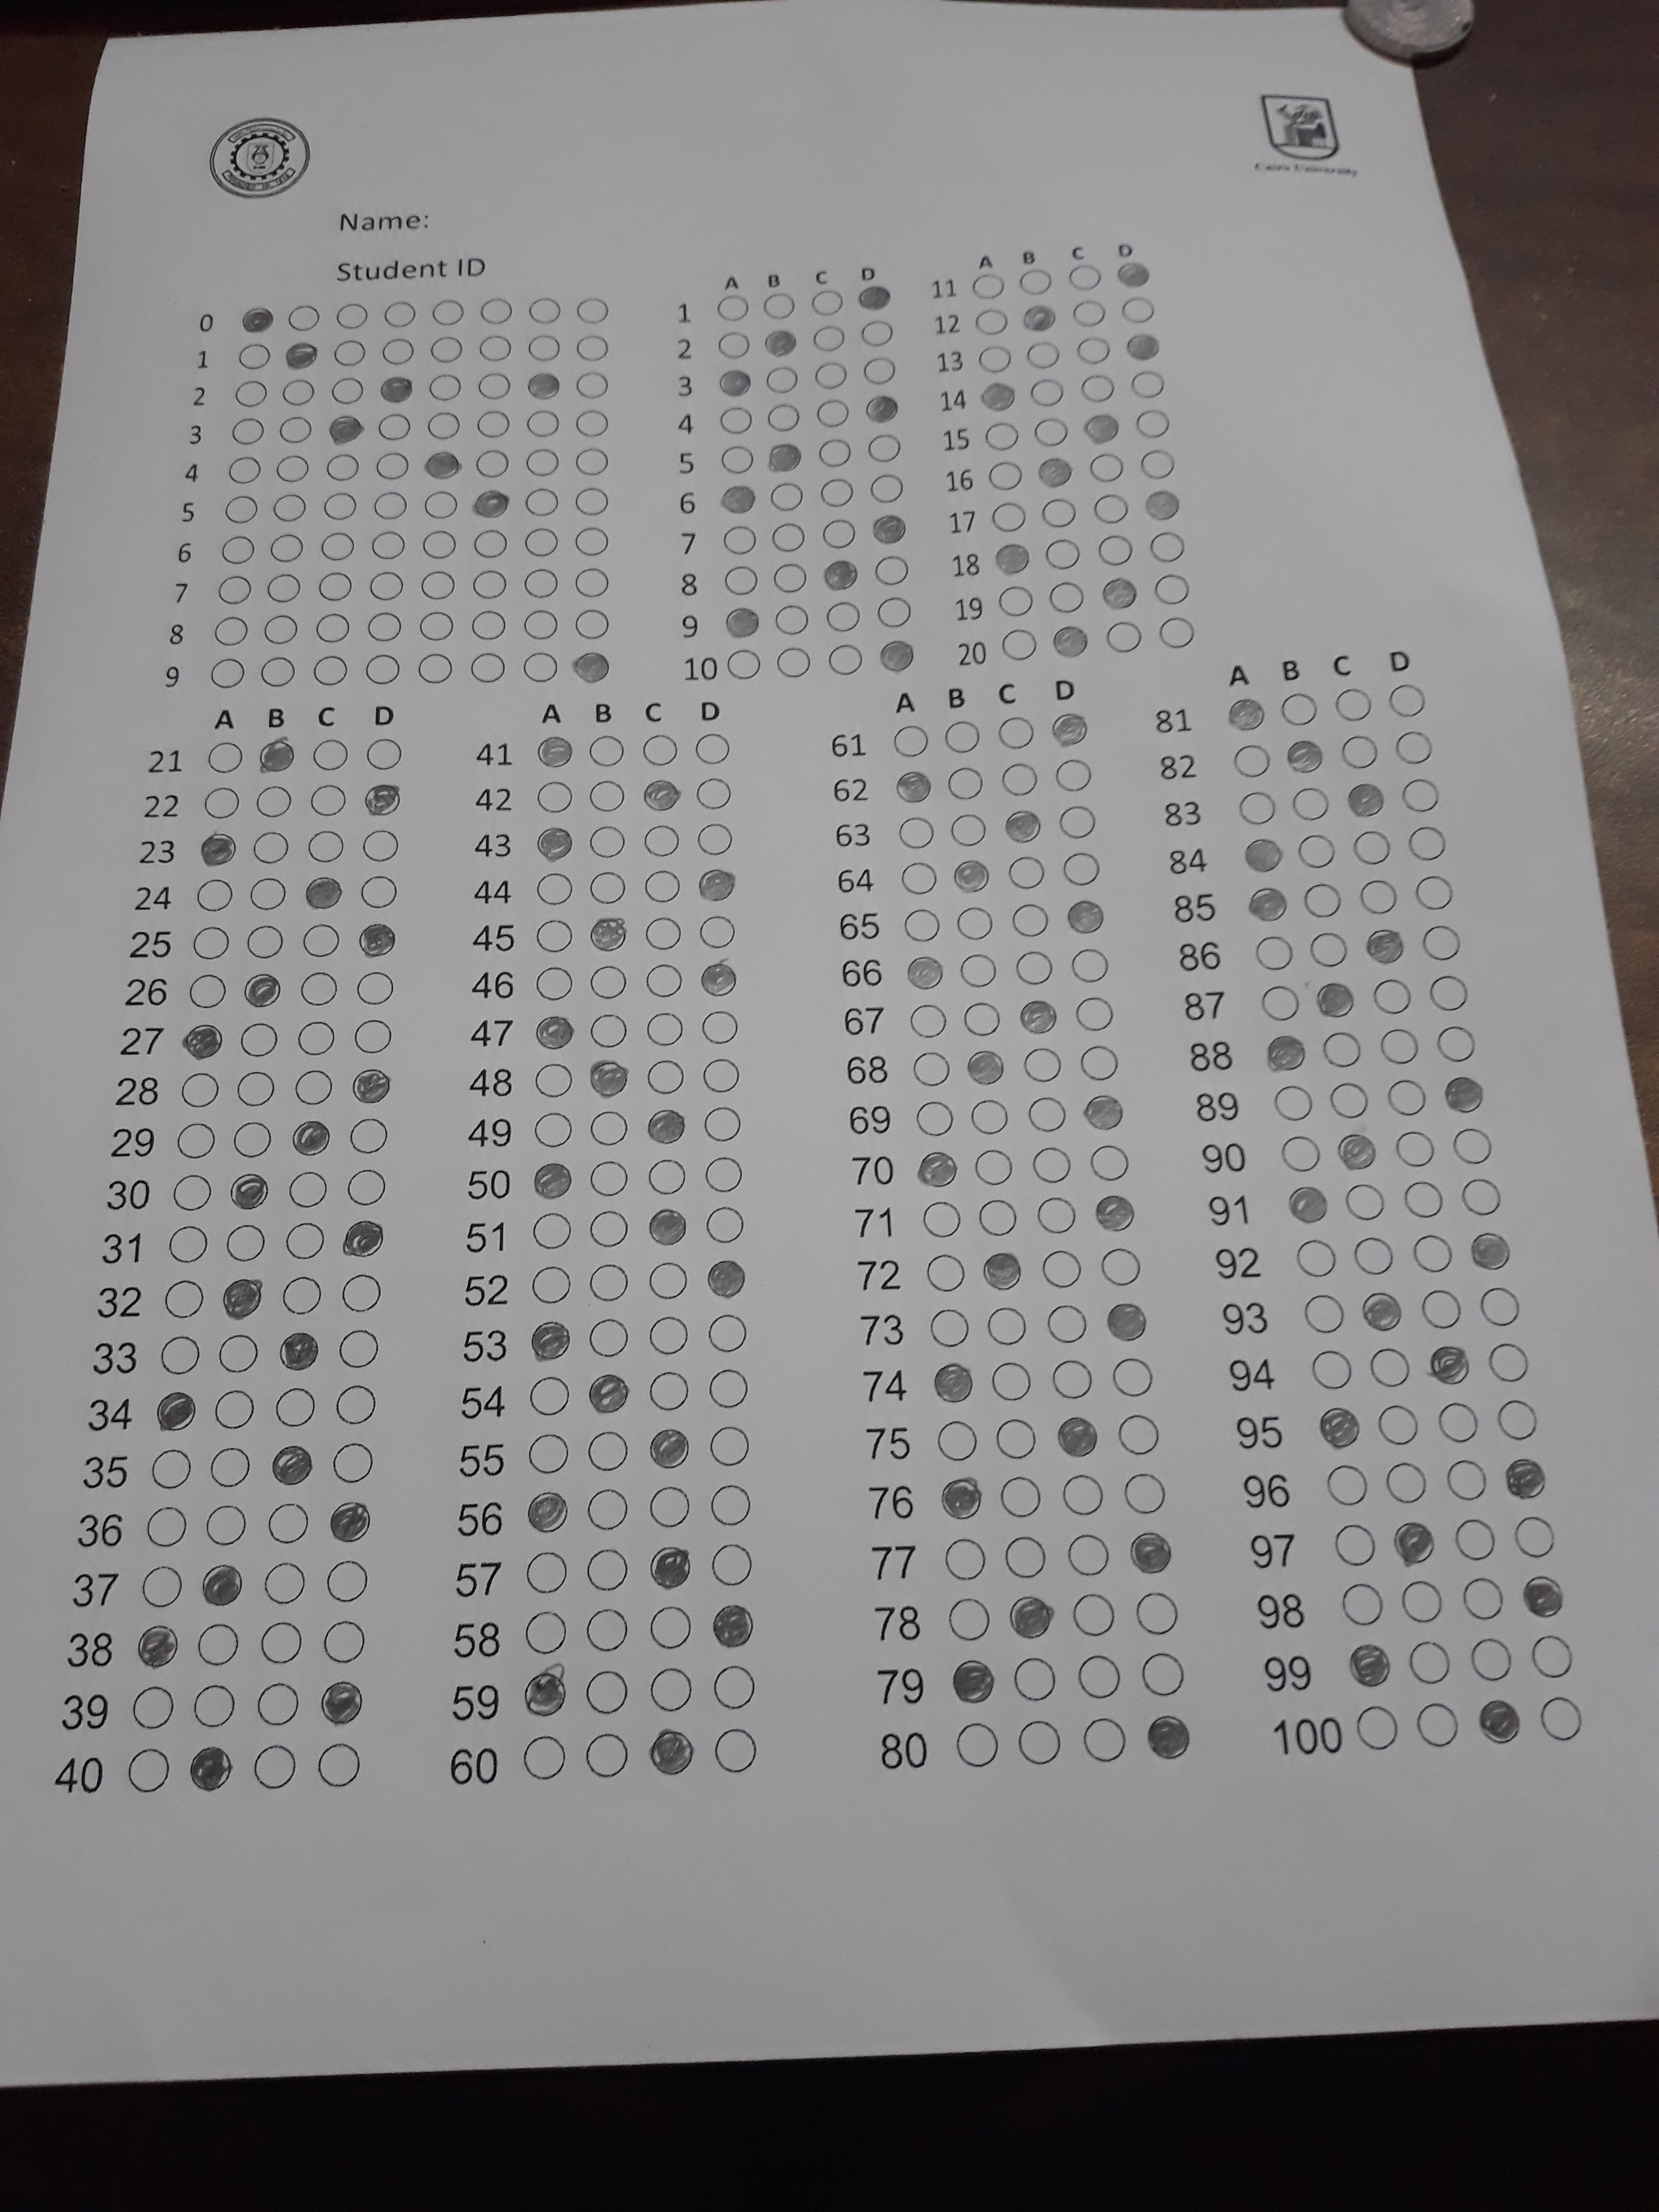not-c: (1413, 1702, 1460, 1749), (1405, 1639, 1450, 1686), (1375, 1402, 1420, 1449), (1309, 1346, 1354, 1393), (1493, 1397, 1539, 1444), (1408, 1230, 1453, 1277), (1351, 1231, 1398, 1277), (1448, 1120, 1495, 1165), (1338, 1583, 1385, 1629), (1331, 1521, 1377, 1568), (702, 1312, 749, 1357), (708, 1423, 753, 1470), (1002, 1534, 1047, 1581), (1070, 1592, 1117, 1637), (1075, 1653, 1121, 1700), (951, 1721, 999, 1766), (647, 1606, 694, 1651), (525, 1548, 570, 1595), (584, 1670, 631, 1716), (648, 1667, 695, 1712), (322, 1557, 368, 1604), (148, 1447, 195, 1493), (321, 1620, 368, 1665), (139, 1564, 185, 1611), (253, 1683, 300, 1728), (190, 1684, 237, 1730), (253, 1743, 298, 1791), (317, 1742, 362, 1789), (647, 1312, 692, 1359), (647, 1367, 692, 1414), (584, 1608, 631, 1653), (1324, 1463, 1370, 1508), (1401, 1578, 1446, 1623), (1354, 1705, 1399, 1750), (1453, 1517, 1499, 1562), (1443, 1456, 1488, 1501), (1459, 1576, 1504, 1622), (1469, 1637, 1514, 1683), (1539, 1696, 1584, 1742), (1530, 1634, 1575, 1679), (1511, 1514, 1556, 1559), (1434, 1399, 1480, 1444), (1368, 1345, 1413, 1390), (1486, 1341, 1532, 1386), (1476, 1284, 1521, 1329), (1419, 1287, 1464, 1332), (1300, 1291, 1345, 1336), (1293, 1237, 1338, 1282), (1340, 1179, 1385, 1224), (1401, 1176, 1446, 1221), (1459, 1174, 1504, 1219), (943, 1538, 988, 1583), (706, 1366, 751, 1411), (709, 1482, 755, 1527), (709, 1541, 755, 1587), (711, 1663, 756, 1709), (521, 1735, 566, 1780), (584, 1733, 629, 1778), (714, 1728, 760, 1773), (946, 1597, 992, 1642), (999, 1474, 1044, 1519), (992, 1416, 1037, 1461), (934, 1420, 979, 1465), (1061, 1472, 1107, 1517), (1065, 1531, 1110, 1576), (990, 1357, 1035, 1402), (1049, 1357, 1094, 1402), (1108, 1355, 1154, 1400), (1115, 1413, 1161, 1458), (1121, 1470, 1166, 1515), (1134, 1590, 1180, 1635), (1012, 1656, 1058, 1702), (1014, 1721, 1060, 1766), (1080, 1717, 1126, 1763), (1140, 1651, 1185, 1696), (265, 1500, 310, 1545), (261, 1559, 307, 1604), (202, 1503, 247, 1548), (206, 1444, 251, 1489), (145, 1505, 190, 1550), (256, 1622, 301, 1667), (195, 1622, 240, 1667), (131, 1686, 176, 1731), (125, 1749, 171, 1794), (272, 1386, 317, 1432), (333, 1381, 378, 1426), (331, 1439, 376, 1484), (528, 1372, 573, 1418), (526, 1430, 572, 1475), (586, 1428, 631, 1474), (586, 1487, 631, 1533), (586, 1315, 631, 1360), (647, 1484, 692, 1529), (584, 1547, 629, 1592), (521, 1611, 566, 1656), (1279, 1130, 1324, 1174), (1098, 1245, 1143, 1289), (918, 1198, 964, 1242), (904, 998, 950, 1042), (1086, 1139, 1131, 1183), (1392, 1127, 1436, 1170), (1377, 1024, 1420, 1068), (1321, 1028, 1364, 1071), (1046, 1303, 1089, 1346), (1040, 1247, 1084, 1291), (985, 1305, 1028, 1348), (971, 1146, 1014, 1190), (967, 1096, 1011, 1139), (1025, 1092, 1068, 1136), (1324, 1080, 1370, 1122), (974, 1197, 1019, 1238), (958, 996, 1004, 1038), (1384, 1076, 1427, 1118), (1270, 1082, 1314, 1123), (1434, 1022, 1478, 1064), (929, 1306, 972, 1348), (924, 1252, 967, 1294), (1033, 1195, 1077, 1237), (1030, 1144, 1073, 1186), (1021, 1043, 1065, 1085), (913, 1097, 957, 1139), (910, 1047, 953, 1089), (1077, 1042, 1121, 1083), (1072, 991, 1115, 1033), (336, 1327, 380, 1369), (340, 1271, 383, 1313), (279, 1277, 322, 1318), (216, 1332, 260, 1374), (282, 1219, 326, 1261), (223, 1221, 267, 1263), (532, 1109, 575, 1151), (587, 1108, 631, 1150), (586, 1158, 629, 1200), (587, 1209, 631, 1251), (530, 1211, 573, 1252), (530, 1264, 573, 1306), (587, 1263, 631, 1305), (702, 1151, 746, 1193), (704, 1205, 748, 1247), (647, 1259, 690, 1301), (171, 1172, 214, 1214), (166, 1224, 209, 1266), (160, 1278, 204, 1320), (159, 1334, 202, 1376), (213, 1390, 256, 1432), (647, 1157, 688, 1198), (702, 1104, 744, 1146), (295, 1019, 338, 1057), (692, 820, 735, 859), (235, 1021, 279, 1059), (296, 968, 340, 1007), (298, 921, 342, 960), (246, 876, 289, 914), (192, 876, 235, 914), (645, 961, 688, 1000), (533, 869, 577, 907), (640, 867, 683, 906), (349, 1017, 392, 1055), (350, 970, 394, 1008), (291, 1069, 335, 1108), (188, 972, 232, 1010), (530, 1061, 573, 1099), (586, 1012, 629, 1050), (643, 1057, 687, 1096), (695, 914, 739, 953), (699, 1008, 742, 1047), (347, 1116, 390, 1155), (343, 1169, 387, 1207), (174, 1120, 218, 1158), (303, 827, 345, 866), (355, 873, 397, 911), (242, 923, 284, 961), (190, 925, 232, 963), (533, 965, 575, 1003), (587, 963, 629, 1001), (643, 914, 685, 953), (533, 916, 575, 954), (587, 867, 629, 906), (701, 1057, 742, 1096), (286, 1170, 328, 1209), (234, 1069, 275, 1108), (232, 1120, 274, 1158), (179, 1071, 221, 1109), (1427, 975, 1471, 1012), (247, 829, 291, 866), (997, 716, 1037, 754), (641, 820, 681, 859), (202, 784, 242, 822), (535, 779, 575, 817), (957, 953, 999, 989), (1007, 902, 1049, 939), (901, 907, 943, 944), (1303, 881, 1345, 918), (1358, 878, 1399, 914), (1420, 923, 1462, 960), (1297, 833, 1338, 869), (1051, 758, 1093, 794), (1352, 829, 1394, 866), (1279, 691, 1321, 728), (643, 1012, 685, 1049), (694, 775, 732, 813), (364, 735, 403, 773), (587, 777, 626, 815), (589, 822, 627, 860), (1340, 733, 1380, 770), (1232, 744, 1272, 780), (359, 826, 399, 862), (692, 732, 732, 768), (640, 733, 680, 770), (587, 733, 627, 770), (206, 738, 246, 775), (1371, 979, 1413, 1014), (1260, 986, 1302, 1021), (1309, 932, 1351, 967), (1066, 949, 1108, 984), (1012, 951, 1054, 986), (955, 906, 997, 941), (894, 815, 936, 850), (946, 812, 988, 846), (1006, 855, 1047, 890), (1061, 852, 1103, 887), (1056, 805, 1098, 840), (945, 766, 986, 801), (999, 763, 1040, 798), (941, 719, 983, 754), (1399, 779, 1441, 813), (1394, 730, 1436, 765), (1236, 789, 1277, 824), (1333, 688, 1375, 723), (899, 859, 936, 897), (310, 782, 349, 819), (312, 737, 350, 773), (254, 784, 293, 820), (1047, 580, 1087, 615), (999, 627, 1039, 662), (469, 651, 509, 686), (418, 568, 458, 603), (418, 526, 458, 561), (1255, 935, 1295, 970), (1415, 874, 1455, 909), (1291, 787, 1331, 822), (1406, 826, 1446, 860), (1387, 683, 1427, 718), (573, 608, 612, 643), (873, 554, 911, 589), (521, 650, 559, 685), (521, 606, 559, 641), (572, 566, 610, 601), (523, 564, 561, 599), (1147, 529, 1185, 564), (1154, 573, 1192, 608), (995, 585, 1033, 620), (772, 603, 810, 637), (823, 599, 861, 634), (873, 597, 911, 632), (723, 648, 762, 683), (774, 644, 812, 679), (1105, 620, 1143, 655), (1157, 615, 1195, 650), (824, 639, 863, 674), (471, 608, 509, 643), (472, 566, 511, 601), (573, 524, 612, 559), (523, 486, 561, 521), (472, 526, 511, 561), (415, 651, 453, 686), (416, 610, 455, 644), (364, 651, 403, 686), (366, 610, 404, 644), (368, 568, 406, 603), (369, 528, 408, 563), (422, 488, 460, 523), (371, 489, 410, 524), (373, 449, 411, 484), (890, 723, 929, 758), (521, 526, 561, 559), (474, 408, 512, 441), (573, 484, 612, 517), (474, 448, 512, 481), (476, 331, 514, 364), (525, 331, 563, 364), (310, 655, 349, 688), (314, 611, 352, 644), (324, 451, 362, 484), (267, 531, 305, 564), (207, 657, 246, 690), (213, 615, 251, 648), (228, 415, 267, 448), (425, 409, 462, 442), (575, 333, 612, 366), (575, 294, 612, 327), (382, 300, 418, 333), (317, 570, 354, 603), (321, 491, 357, 524), (216, 573, 253, 606), (223, 493, 260, 526), (329, 374, 366, 408), (237, 340, 274, 373), (1070, 296, 1107, 329), (1079, 373, 1115, 406), (1087, 451, 1124, 484), (1094, 493, 1131, 526), (770, 521, 807, 554), (772, 561, 809, 594), (718, 444, 755, 477), (573, 446, 612, 477), (525, 448, 563, 479), (525, 408, 563, 439), (573, 408, 612, 439), (525, 296, 563, 327), (430, 298, 469, 329), (261, 615, 300, 646), (220, 535, 258, 566), (275, 415, 314, 446), (225, 455, 263, 486), (331, 336, 369, 368), (234, 378, 272, 409), (284, 303, 322, 334), (1044, 538, 1082, 570), (971, 270, 1006, 303), (992, 500, 1026, 533), (376, 413, 413, 444), (477, 371, 514, 402), (427, 373, 464, 404), (573, 369, 610, 401), (429, 334, 465, 366), (382, 336, 418, 368), (477, 294, 514, 326), (319, 531, 355, 563), (260, 657, 296, 688), (265, 573, 301, 604), (272, 491, 308, 523), (274, 453, 310, 484), (281, 376, 317, 408), (335, 301, 371, 333), (769, 481, 805, 512), (971, 307, 1007, 338), (1018, 265, 1054, 296), (1121, 293, 1157, 324), (1075, 334, 1112, 366), (1129, 369, 1166, 401), (1134, 408, 1171, 439), (1028, 378, 1065, 409), (985, 421, 1021, 453), (1032, 418, 1068, 449), (1140, 449, 1176, 481), (986, 460, 1023, 491), (1040, 498, 1077, 529), (1098, 535, 1134, 566), (868, 474, 904, 505), (821, 519, 857, 550), (723, 524, 760, 556), (723, 566, 760, 597), (816, 477, 852, 509), (817, 437, 854, 469), (718, 406, 755, 437), (765, 402, 802, 434), (816, 397, 852, 428), (763, 364, 800, 395), (976, 343, 1012, 374), (861, 355, 897, 387), (859, 317, 896, 348), (810, 322, 847, 354), (714, 329, 751, 361), (716, 293, 753, 324), (762, 291, 798, 322), (809, 287, 845, 319), (1026, 338, 1061, 369), (1068, 261, 1103, 293), (868, 434, 903, 465), (812, 361, 847, 392)
taken-c: (647, 1726, 699, 1777), (711, 1602, 763, 1651), (525, 1486, 575, 1534), (521, 1669, 572, 1717), (185, 1745, 235, 1794), (317, 1679, 368, 1728), (134, 1620, 185, 1669), (197, 1559, 247, 1608), (324, 1496, 375, 1545), (267, 1442, 317, 1491), (150, 1386, 200, 1435), (647, 1543, 697, 1592), (645, 1425, 695, 1474), (1425, 1341, 1474, 1388), (927, 1359, 978, 1404), (1006, 1594, 1056, 1639), (948, 1658, 999, 1703), (1147, 1714, 1197, 1759), (1520, 1573, 1570, 1618), (1345, 1644, 1396, 1688), (1476, 1700, 1527, 1743), (1391, 1521, 1441, 1564), (1053, 1416, 1103, 1460), (936, 1479, 986, 1522), (1317, 1404, 1363, 1451), (1103, 1298, 1148, 1345), (1466, 1230, 1513, 1275), (1129, 1529, 1178, 1573), (1500, 1458, 1547, 1500), (1359, 1291, 1406, 1332), (981, 1251, 1030, 1291), (913, 1150, 962, 1190), (1283, 1186, 1331, 1224), (1089, 1193, 1138, 1231), (227, 1170, 272, 1211), (289, 1116, 335, 1157), (643, 1104, 688, 1144), (586, 1057, 631, 1097), (349, 1068, 394, 1108), (1080, 1092, 1127, 1130), (181, 1021, 223, 1062), (279, 1331, 322, 1371), (342, 1219, 385, 1259), (218, 1277, 261, 1317), (528, 1320, 572, 1360), (704, 1259, 748, 1299), (530, 1160, 573, 1200), (533, 1014, 577, 1054), (1016, 998, 1060, 1036), (903, 953, 946, 991), (1265, 1033, 1309, 1071), (1364, 927, 1408, 965), (1241, 836, 1284, 874), (587, 1374, 631, 1413), (647, 1207, 690, 1245), (965, 1047, 1007, 1085), (1337, 1132, 1378, 1170), (1445, 1075, 1486, 1113), (1314, 981, 1356, 1019), (1225, 693, 1267, 732), (1004, 808, 1046, 846), (951, 857, 993, 895), (1283, 738, 1326, 775), (1063, 899, 1107, 935), (240, 972, 284, 1008), (1248, 887, 1290, 923), (1347, 780, 1389, 817), (892, 768, 934, 805), (572, 650, 612, 685), (641, 777, 681, 812), (716, 366, 756, 401), (870, 514, 910, 549), (877, 637, 917, 672), (854, 280, 894, 315), (523, 369, 563, 404), (376, 373, 416, 408), (239, 303, 279, 338), (1053, 625, 1093, 660), (1100, 577, 1140, 611), (1143, 489, 1183, 524), (1114, 256, 1154, 291), (863, 392, 903, 427), (357, 921, 397, 956), (697, 866, 737, 900), (535, 826, 575, 860), (303, 873, 343, 907), (199, 831, 239, 866), (364, 782, 404, 817), (258, 738, 298, 773), (765, 439, 803, 474), (721, 482, 760, 517), (823, 559, 861, 594), (725, 606, 763, 641), (472, 488, 511, 523), (423, 448, 462, 482), (326, 413, 364, 448), (282, 338, 321, 373), (535, 733, 573, 768), (1051, 712, 1089, 747), (995, 542, 1033, 577), (1037, 455, 1075, 489), (1084, 411, 1122, 446), (979, 378, 1018, 413), (1124, 331, 1162, 366), (1019, 301, 1058, 336), (762, 326, 800, 361), (699, 963, 737, 998), (591, 916, 629, 951)
